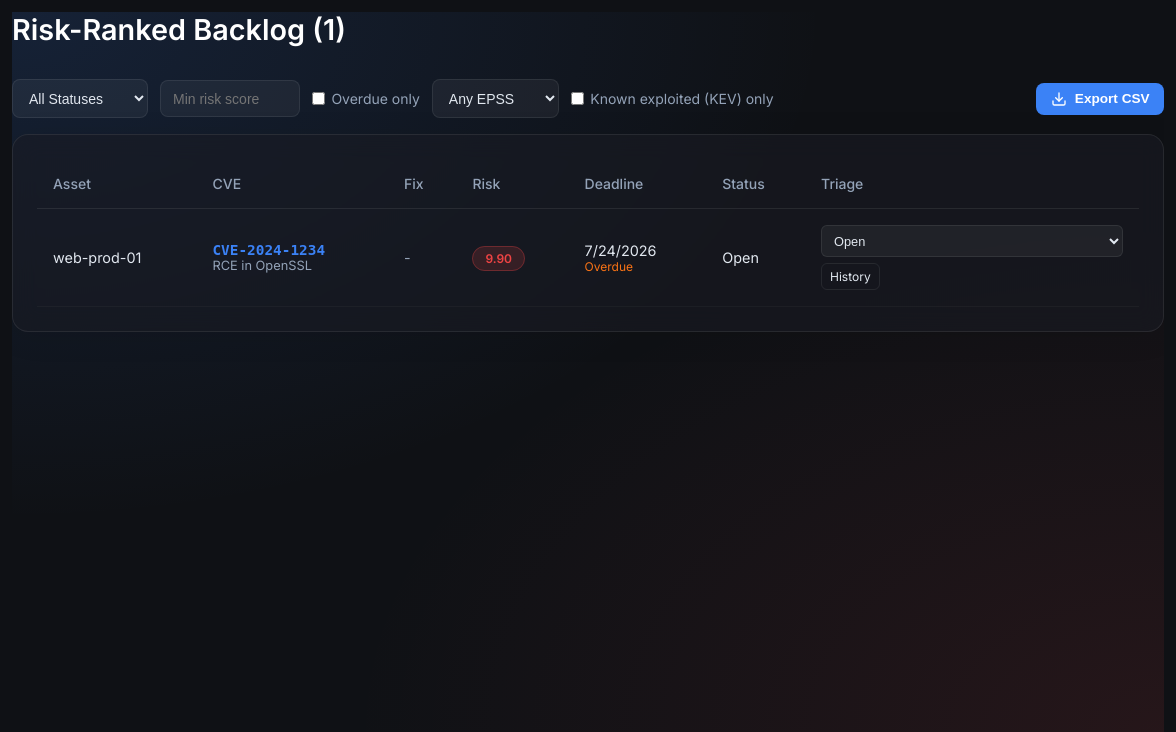
Test: FindingsBacklog › does not demand a note to mark something remediated
Step 1. Select "Remediated" in the dropdown showing "Open" in the row of "web-prod-01" → [972, 241], box [821,225,1123,257]
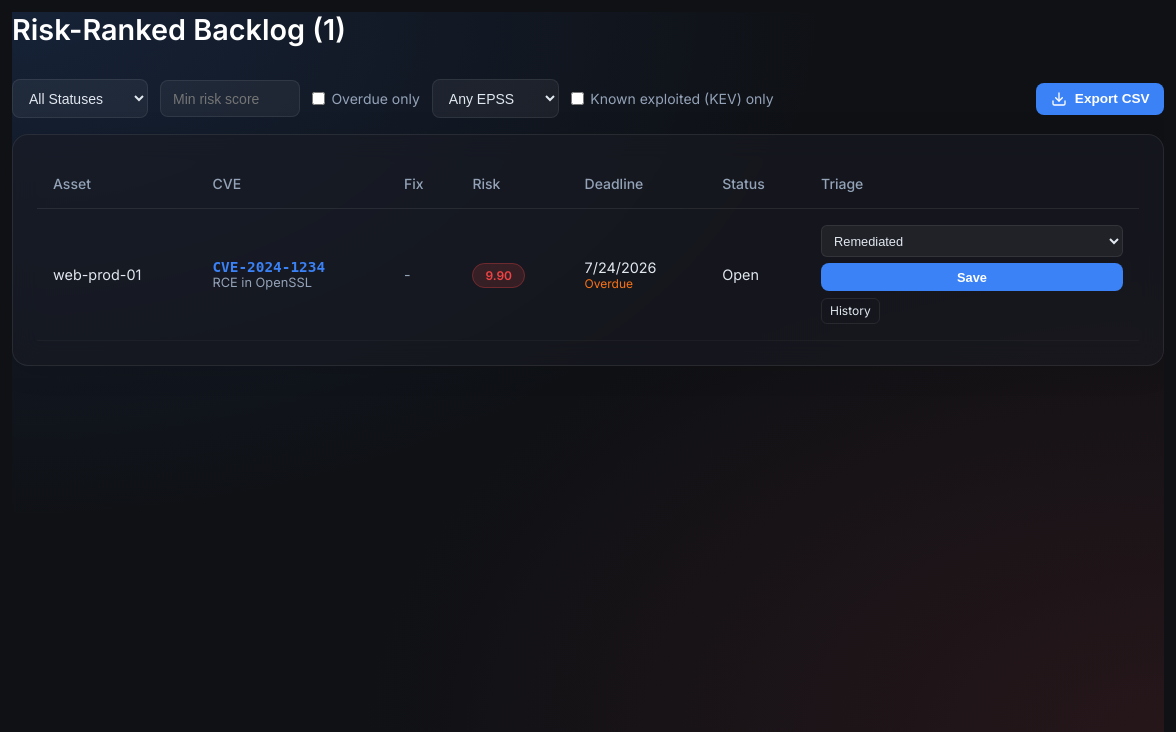
Result: the button "Save" is enabled at [821,263,1123,291]
